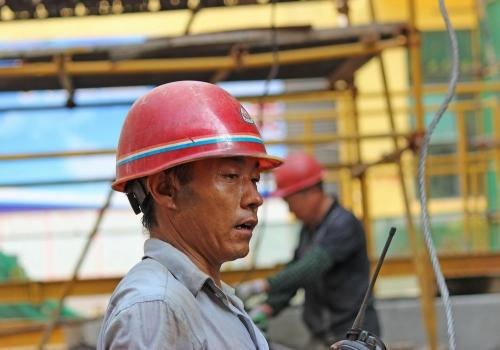helmet: (97, 58, 288, 277), (273, 148, 337, 228)
person: (97, 76, 280, 349), (274, 155, 385, 349)
